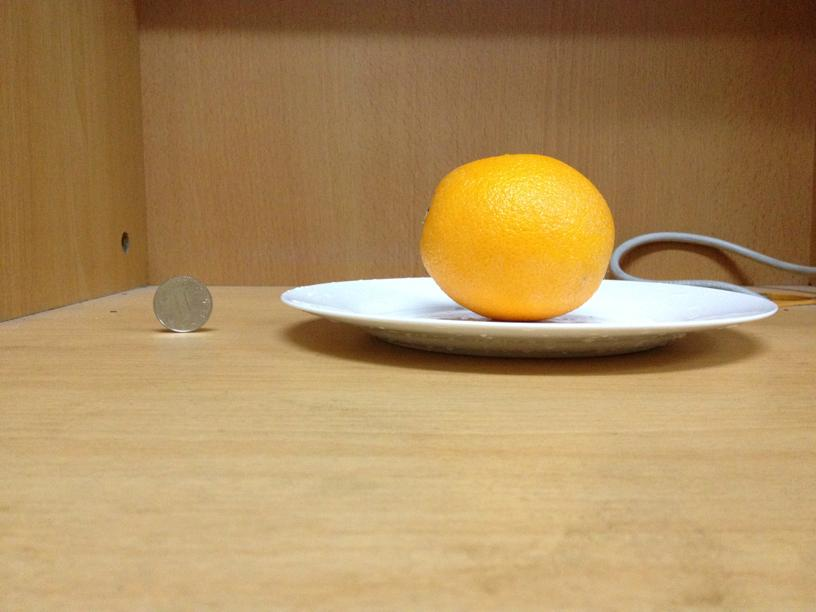coin: (150, 273, 215, 332)
orange: (417, 154, 617, 319)
